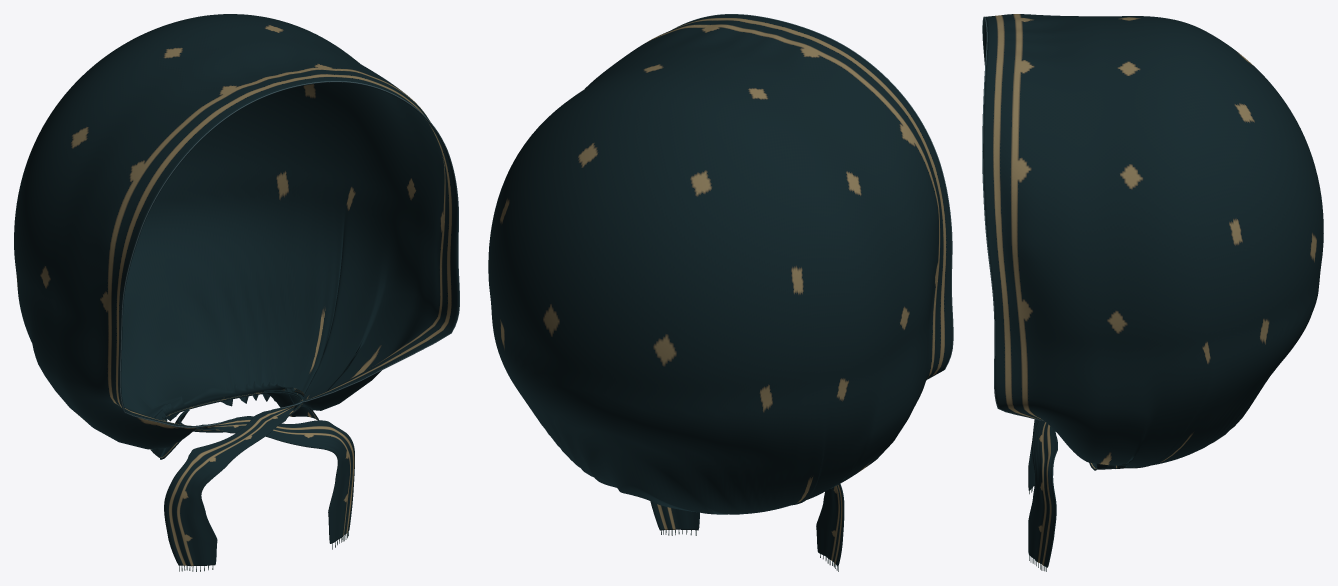
File: Masculine-Masculine-middle-part-buttonup-pashmina250-headgear-13372ad4.glb
The picture shows the model from 3 angles, left to right: view 1: azimuth 30°, elevation 25°; view 2: azimuth 150°, elevation 25°; view 3: azimuth 270°, elevation 25°; orthographic projection. The views are drawn at different scales.
Parts seen in each view (by area): view 1: 226 headgear / Headwear / continuous woven pashmina239, 226 headgear / Headwear / face edge239; view 2: 226 headgear / Headwear / continuous woven pashmina239, 226 headgear / Headwear / face edge239; view 3: 226 headgear / Headwear / continuous woven pashmina239, 226 headgear / Headwear / face edge239.
Boxes of the visible parts, x1,y1,x2,y2 form: 226 headgear / Headwear / continuous woven pashmina239: (14, 14, 458, 566); 226 headgear / Headwear / face edge239: (120, 81, 459, 427); 226 headgear / Headwear / continuous woven pashmina239: (488, 14, 952, 566); 226 headgear / Headwear / face edge239: (672, 14, 953, 379); 226 headgear / Headwear / continuous woven pashmina239: (983, 14, 1323, 567); 226 headgear / Headwear / face edge239: (982, 16, 1043, 420).
Bounding box in the file's own units: 1.1 × 1.41 × 0.882.
3 materials, 1 textured.
